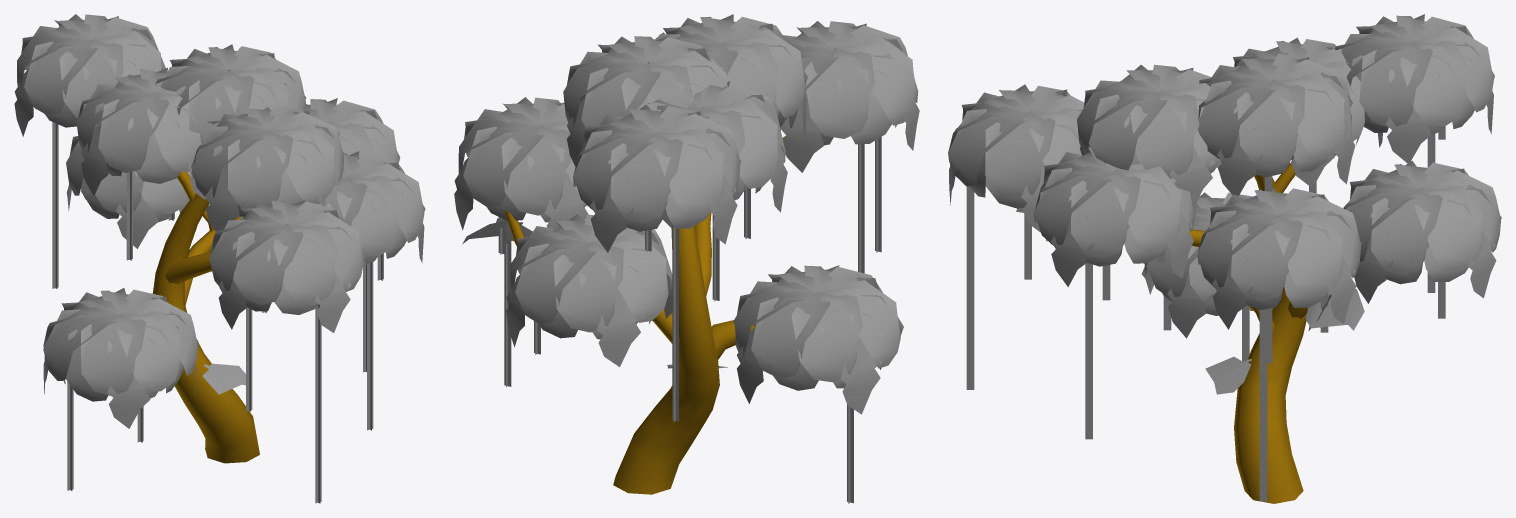
Rendered from Tree_Final_Combined.fbx.
3 views of the same model, side by side, from view 1: azimuth 30°, elevation 25°; view 2: azimuth 150°, elevation 25°; view 3: azimuth 270°, elevation 25° (orthographic). The views are drawn at different scales.
Parts seen in each view (by area): view 1: Tree_Low; view 2: Tree_Low; view 3: Tree_Low.
Part boxes in pixels (x1,y1,x2,y2): Tree_Low: (14, 14, 425, 503); Tree_Low: (454, 14, 919, 503); Tree_Low: (948, 14, 1501, 503).
Bounding box in the file's own units: 71.97 × 74.6 × 89.83.
